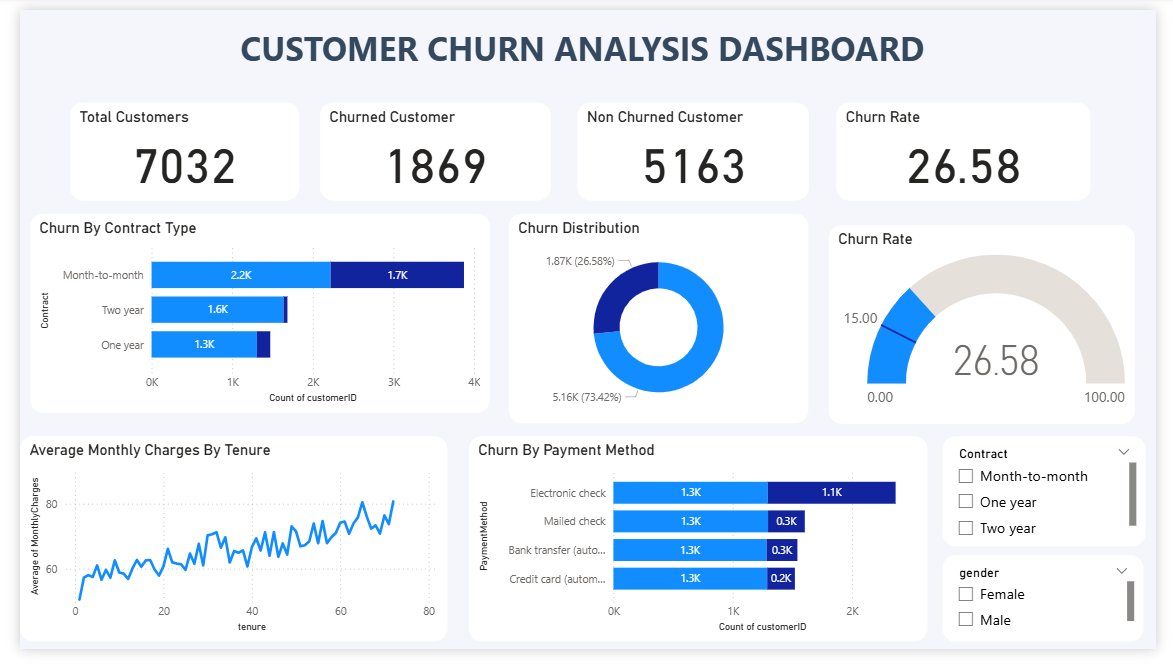

The dashboard page shown, as its layout file describes it:
{"tool":"powerbi","page":{"name":"Page 1","canvas":[1280,720],"ordinal":0},"visuals":[{"type":"card","title":"Total Customers","fields":{"Values":["Count(churn_cleaned.customerID)"]},"box":[56.6,104.6,258.5,110.8],"z":2000},{"type":"card","title":"Churned Customer","fields":{"Values":["Sum(churn_cleaned.Churn)"]},"box":[338.5,104.6,259.7,110.8],"z":3000},{"type":"card","title":"Churn Rate","fields":{"Values":["churn_cleaned.Churn Rate"]},"box":[919.4,104.6,286.8,110.8],"z":4000},{"type":"donutChart","title":"Churn Distribution","fields":{"Category":["churn_cleaned.Churn"],"Y":["CountNonNull(churn_cleaned.customerID)"]},"box":[551.4,230.2,337.2,236.3],"z":5000},{"type":"barChart","title":"Churn By Contract Type","fields":{"Category":["churn_cleaned.Contract"],"Y":["CountNonNull(churn_cleaned.customerID)"],"Series":["churn_cleaned.Churn"]},"box":[11.1,230.2,518.2,224],"z":6000},{"type":"barChart","title":"Churn By Payment Method","fields":{"Category":["churn_cleaned.PaymentMethod"],"Y":["CountNonNull(churn_cleaned.customerID)"],"Series":["churn_cleaned.Churn"]},"box":[505.8,480,516.9,231.4],"z":7000},{"type":"lineChart","title":"Average Monthly Charges By Tenure","fields":{"Category":["churn_cleaned.tenure"],"Y":["Avg(churn_cleaned.MonthlyCharges)"]},"box":[0,480,481.2,231.4],"z":8000},{"type":"slicer","fields":{"Values":["churn_cleaned.Contract"]},"box":[1038.8,480,228.9,124.3],"z":9000},{"type":"textbox","box":[0,12.3,1267.7,92.3],"z":10000},{"type":"gauge","fields":{"Y":["churn_cleaned.Churn Rate"]},"box":[910.8,242.5,344.6,224],"z":11000},{"type":"slicer","fields":{"Values":["churn_cleaned.gender"]},"box":[1038.8,614.2,226.5,97.2],"z":11001},{"type":"card","title":"Non Churned Customer","fields":{"Values":["churn_cleaned.Non-Churned Customers"]},"box":[627.7,104.6,260.9,110.8],"z":11002}]}

Visuals, with their boxes in screenshot pixels (x1, y1, x2, y2), scaled from the page's 1280x720 canvas onto the 1173x666 screenshot:
"Total Customers" card: bbox(52, 97, 289, 199)
"Churned Customer" card: bbox(310, 97, 548, 199)
"Churn Rate" card: bbox(843, 97, 1105, 199)
"Churn Distribution" donutChart: bbox(505, 213, 814, 432)
"Churn By Contract Type" barChart: bbox(10, 213, 485, 420)
"Churn By Payment Method" barChart: bbox(464, 444, 937, 658)
"Average Monthly Charges By Tenure" lineChart: bbox(0, 444, 441, 658)
slicer - churn_cleaned.Contract: bbox(952, 444, 1162, 559)
textbox: bbox(0, 11, 1162, 97)
gauge - churn_cleaned.Churn Rate: bbox(835, 224, 1150, 432)
slicer - churn_cleaned.gender: bbox(952, 568, 1160, 658)
"Non Churned Customer" card: bbox(575, 97, 814, 199)
